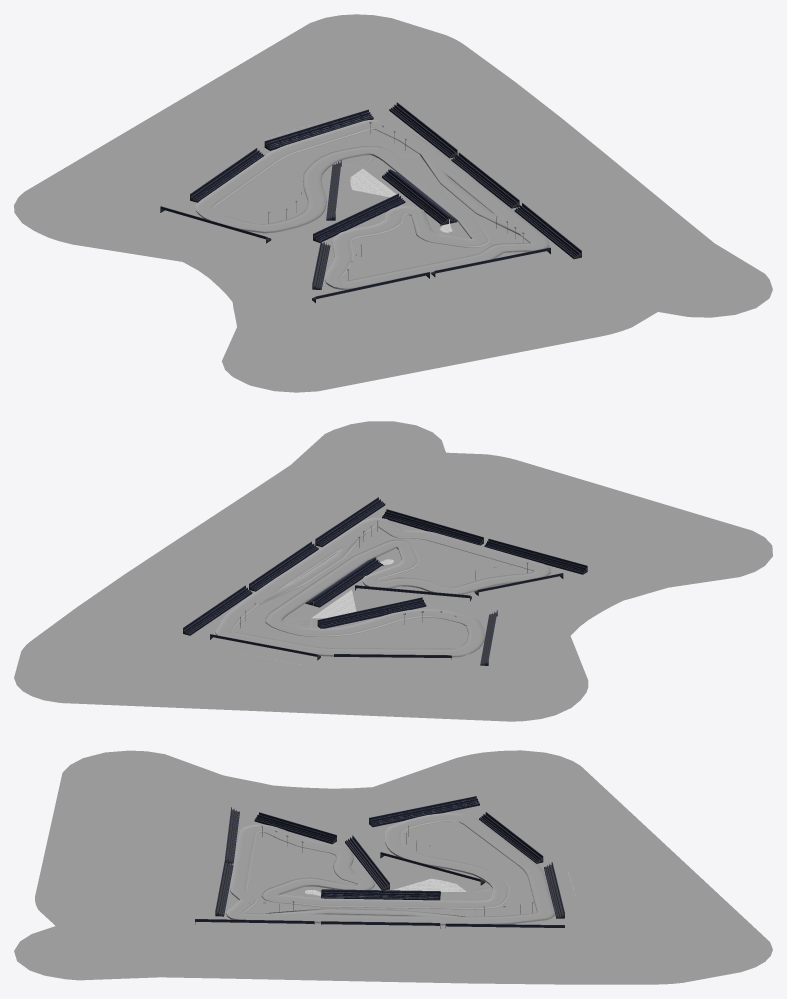
File: NewTrack.fbx
3 views of the same model, one above another, from view 1: azimuth 30°, elevation 25°; view 2: azimuth 150°, elevation 25°; view 3: azimuth 270°, elevation 25° (orthographic). The views are drawn at different scales.
Visible parts, largest first — view 1: Ciment1, Road3, Tiles2, Road6, Stadium6; view 2: Ciment1, Road3, Tiles2, Road6, Stadium6; view 3: Ciment1, Road3, Tiles2, Road6, Stadium6, People6.
Boxes of the visible parts, left/top/right/bottom form: Ciment1: left=14, top=14, right=772, bottom=392; Road3: left=195, top=120, right=549, bottom=289; Tiles2: left=167, top=109, right=577, bottom=301; Road6: left=214, top=129, right=529, bottom=280; Stadium6: left=160, top=102, right=581, bottom=302; Ciment1: left=14, top=421, right=772, bottom=721; Road3: left=215, top=518, right=550, bottom=657; Tiles2: left=190, top=508, right=575, bottom=668; Road6: left=233, top=526, right=533, bottom=648; Stadium6: left=183, top=497, right=587, bottom=665; Ciment1: left=14, top=750, right=772, bottom=984; Road3: left=226, top=813, right=554, bottom=925; Tiles2: left=200, top=806, right=581, bottom=936; Road6: left=246, top=821, right=536, bottom=916; Stadium6: left=195, top=796, right=564, bottom=928; People6: left=260, top=798, right=532, bottom=898.
Bounding box in the file's own units: 27738 × 787 × 37992.
